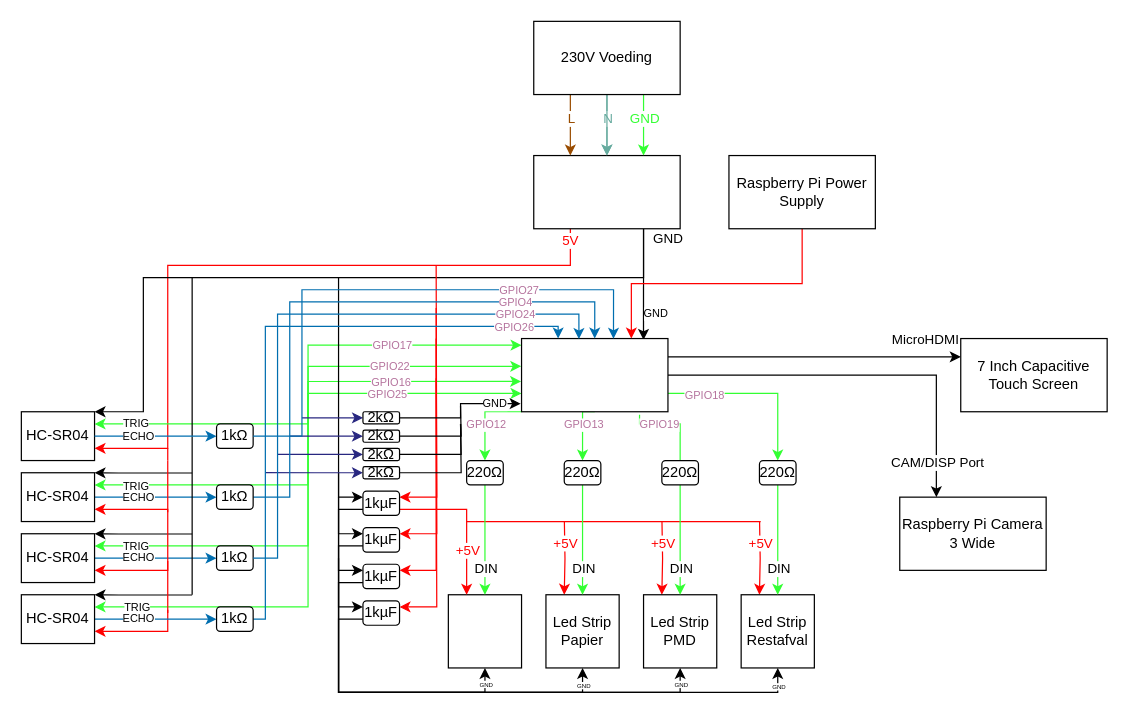
Some shapes in this 1129 by 723 pixel diagram are drawn without their labels. The shapes that lost their labels are listed below. From the top down, each one's box as (x1, y1, x2, y2) in pixels, then its label:
(533, 154, 680, 229): Meanwell RS-25-5
(520, 337, 668, 412): Raspberry PI 5
(447, 594, 522, 668): Led Strip Organisch
